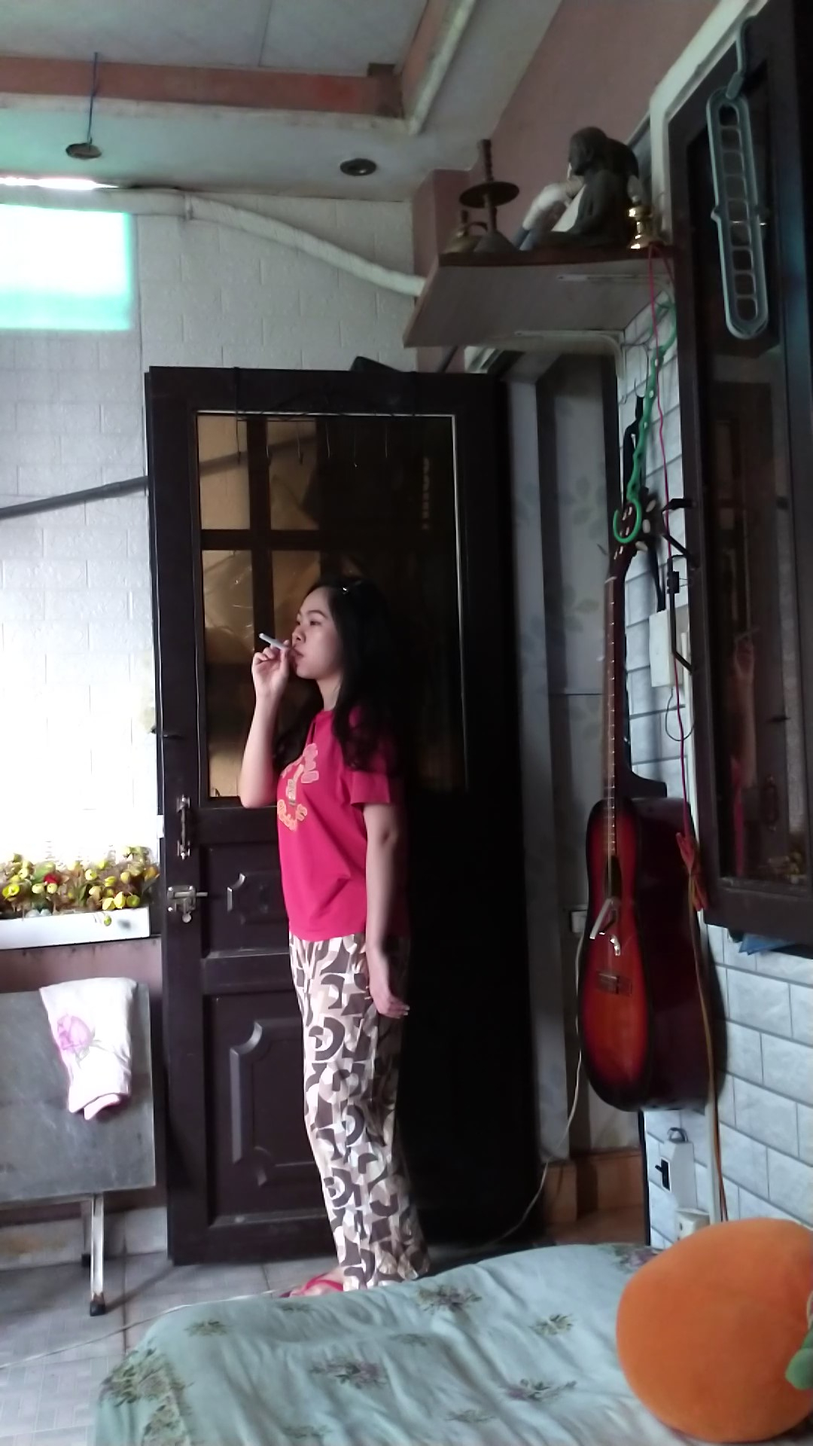cigarette: (255, 628, 285, 653)
person: (254, 552, 416, 1275)
